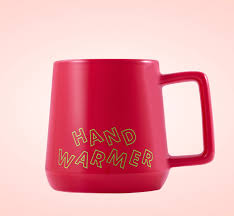cup: (44, 57, 227, 197)
